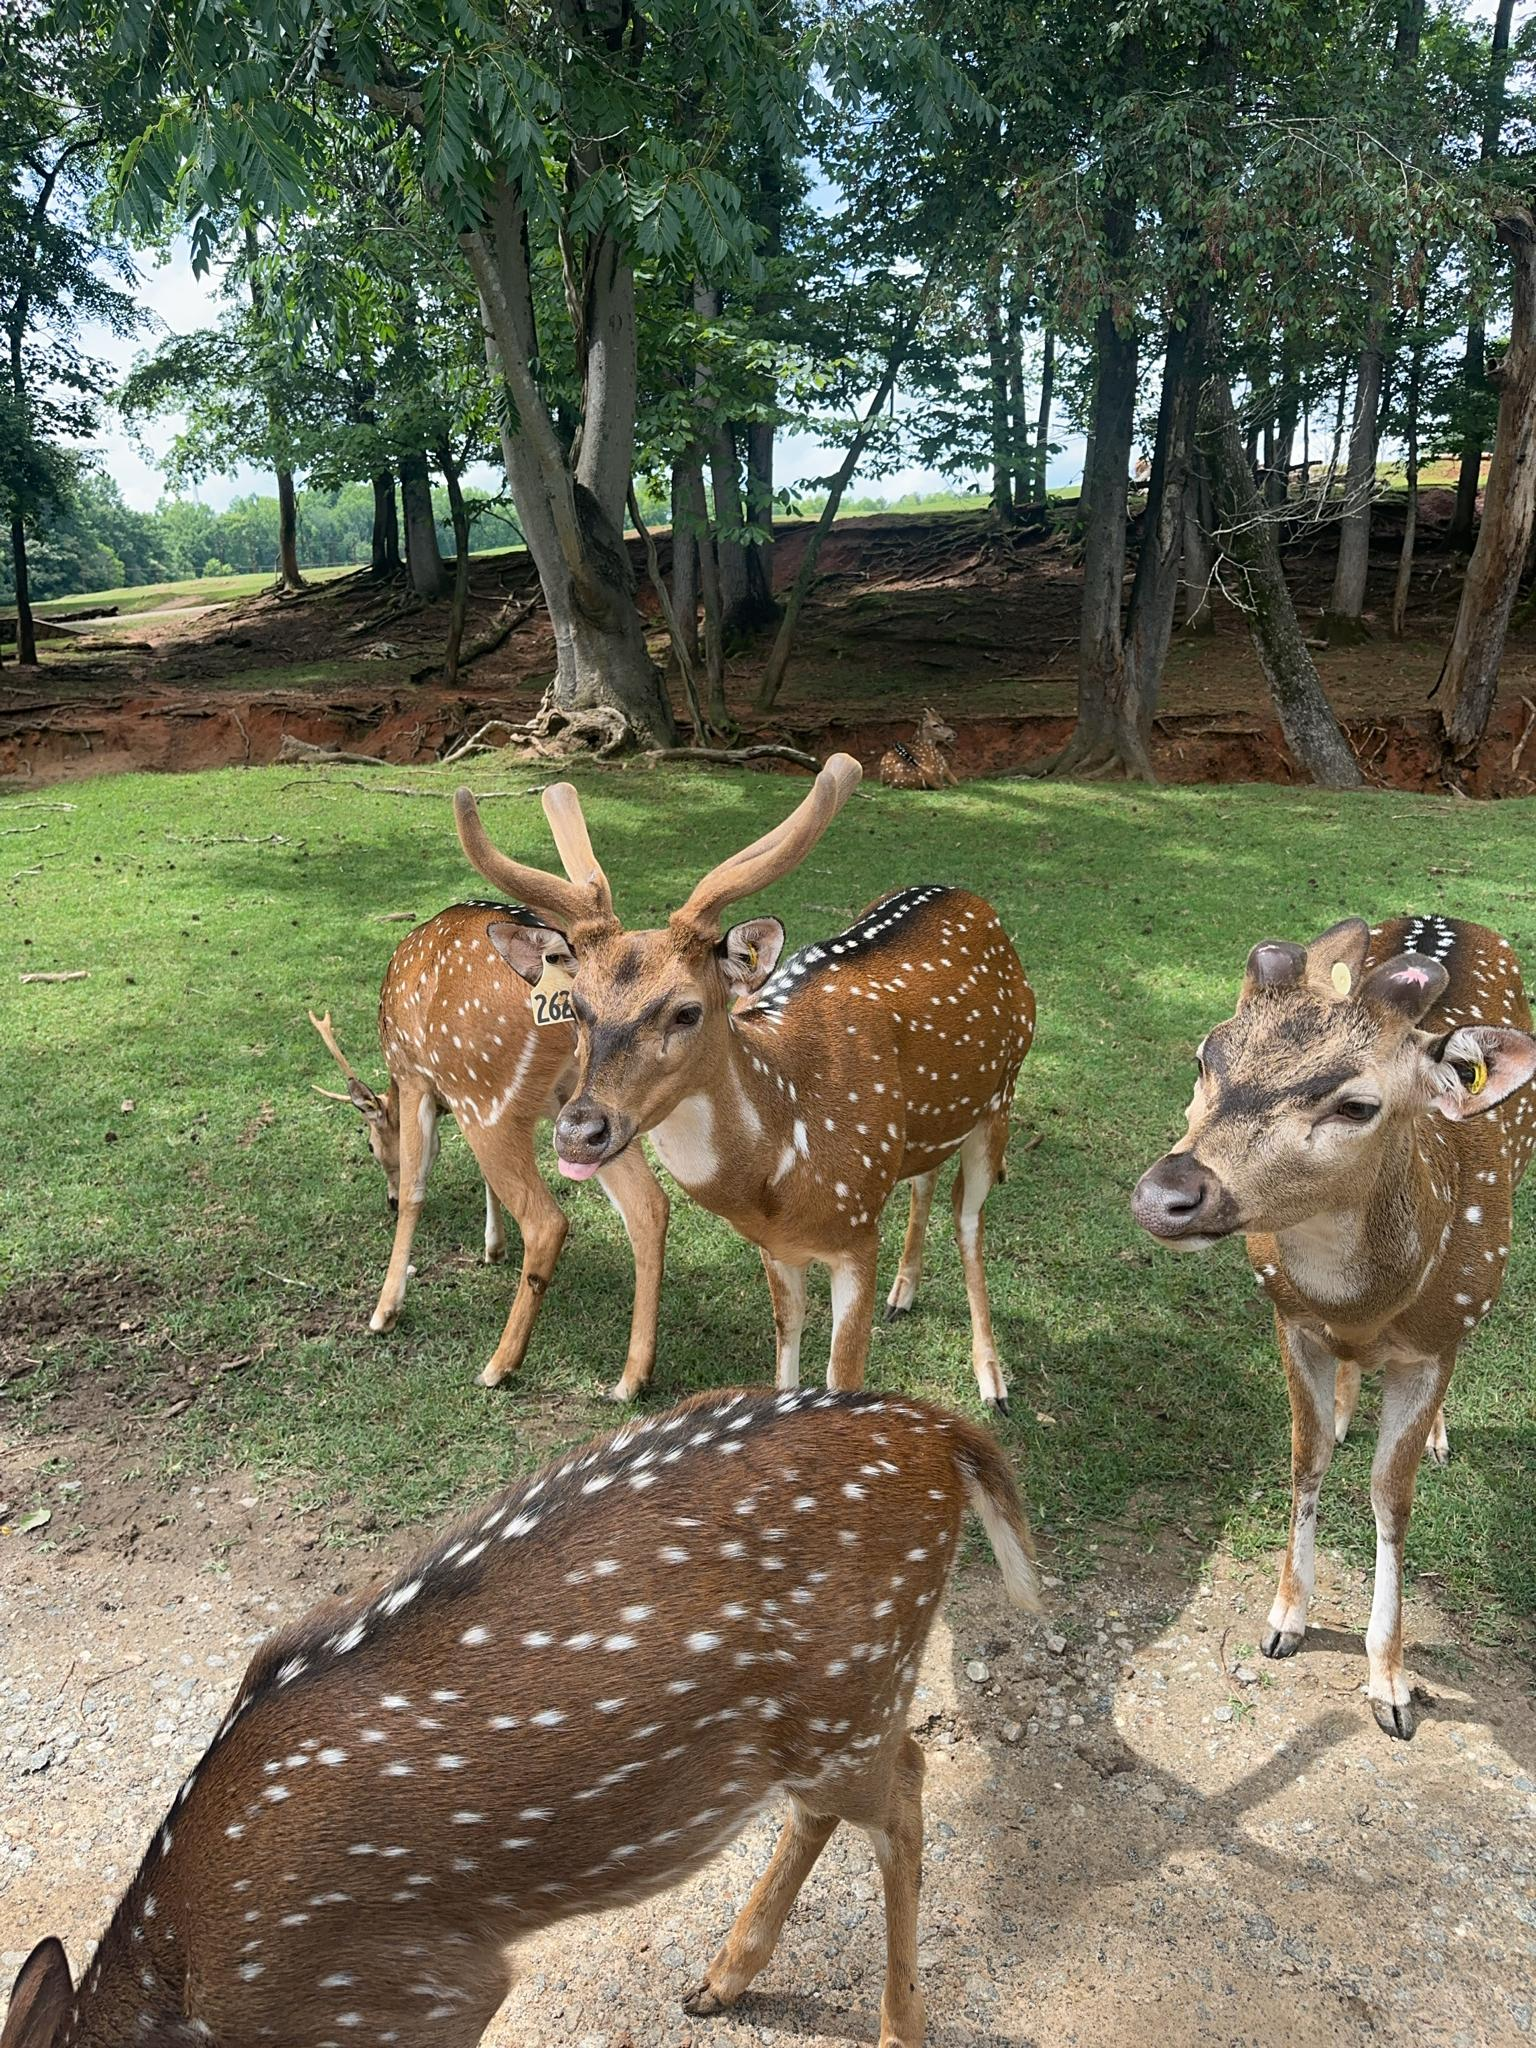Deer: (5, 1389, 1038, 2047), (455, 754, 1035, 1401), (1131, 917, 1535, 1739), (311, 903, 575, 1380), (618, 1153, 668, 1395)
